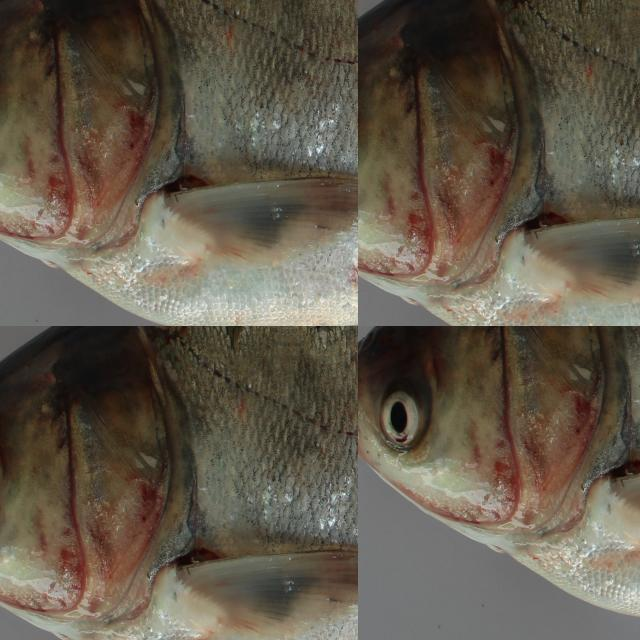fish: (358, 326, 640, 581)
